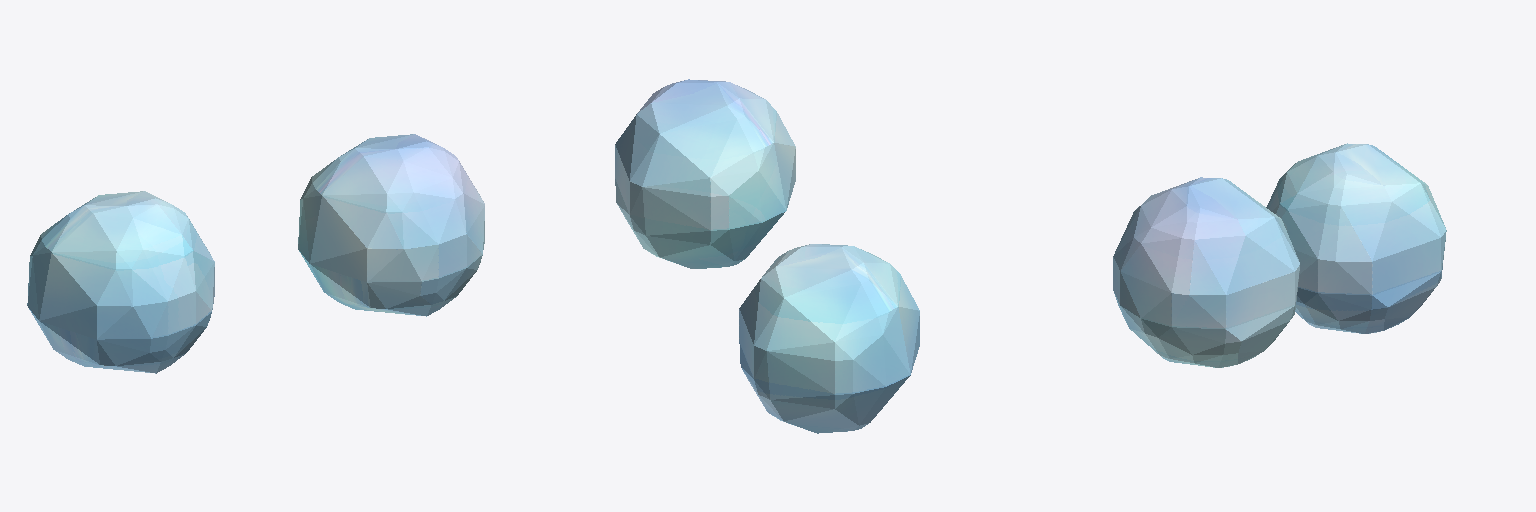
3 views of the same model, side by side, from view 1: azimuth 30°, elevation 25°; view 2: azimuth 150°, elevation 25°; view 3: azimuth 270°, elevation 25° (orthographic).
Parts seen in each view (by area): view 1: Sphere; view 2: Sphere; view 3: Sphere.
Part boxes in pixels (bbox=[...]): Sphere: bbox=[27, 134, 484, 373]; Sphere: bbox=[615, 79, 919, 433]; Sphere: bbox=[1113, 143, 1446, 367].
Size of the model in its own units: 4.31 by 2.68 by 3.46.
1 materials, 1 textured.